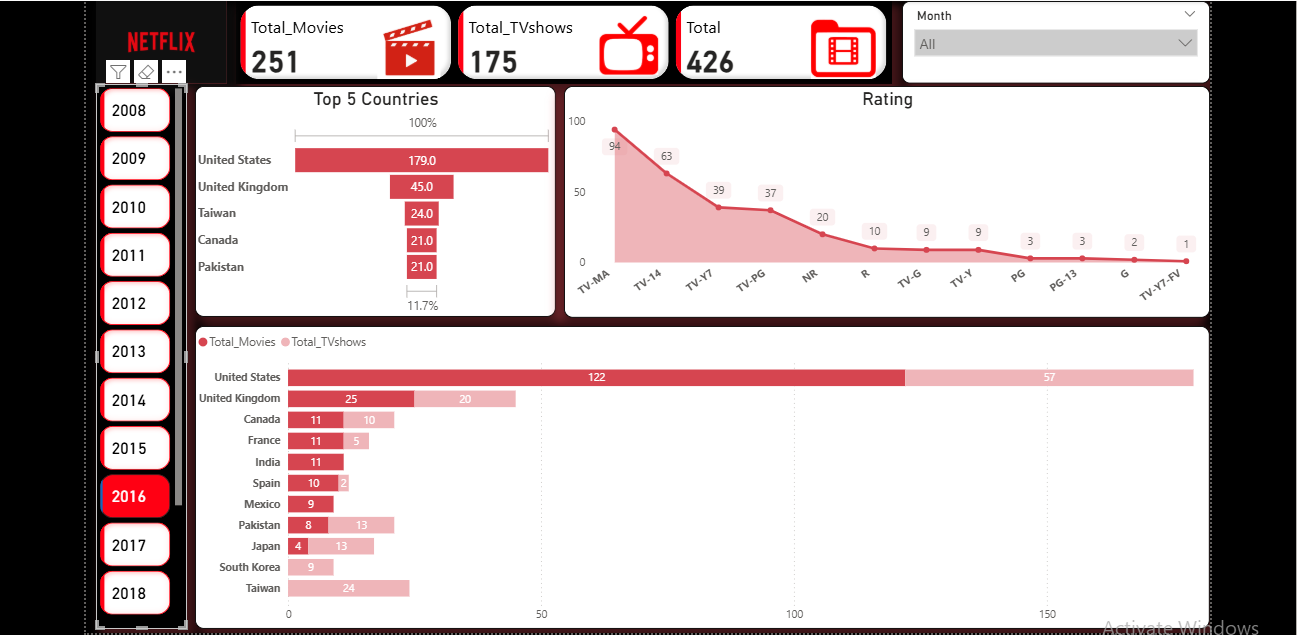

What the dashboard file says about the page in this screenshot:
{"tool":"powerbi","page":{"name":"Page 2","canvas":[1280,720],"ordinal":1},"visuals":[{"type":"shape","box":[0,0,170.8,94.3],"z":0},{"type":"image","box":[11.5,0,149.2,94.3],"z":1000},{"type":"shape","box":[0,114.7,123.7,605.6],"z":2000},{"type":"advancedSlicerVisual","fields":{"Values":["netflix1.date_added.Variation.Date Hierarchy.Year"]},"box":[11.5,94.3,103.3,620.9],"z":3000},{"type":"cardVisual","fields":{"Data":["netflix1.Total_Movies","netflix1.Total_TVshows","netflix1.Total_Movies_shows"]},"box":[170.8,0,747.1,94.3],"z":4000},{"type":"slicer","fields":{"Values":["netflix1.date_added.Variation.Date Hierarchy.Month"]},"box":[929.4,0,350.6,94.3],"z":5000},{"type":"funnel","title":"Top 5 Countries","fields":{"Y":["netflix1.Total_Movies_shows"],"Category":["netflix1.country"]},"box":[123.7,96.9,410.5,262.6],"z":7001},{"type":"lineChart","title":"Rating","fields":{"Category":["netflix1.rating"],"Y":["netflix1.Total_Movies_shows"]},"box":[544.4,96.9,735.6,263.9],"z":7002},{"type":"barChart","title":"Top 5 Countries","fields":{"Category":["netflix1.country"],"Y":["netflix1.Total_Movies","netflix1.Total_TVshows"]},"box":[123.7,369.7,1156.3,345.5],"z":7003}]}

Visuals, with their boxes in screenshot pixels (x1, y1, x2, y2):
shape: box=[88, 0, 236, 82]
image: box=[98, 0, 228, 82]
shape: box=[88, 100, 195, 626]
advancedSlicerVisual - netflix1.date_added.Variation.Date Hierarchy.Year: box=[98, 82, 188, 622]
cardVisual - netflix1.Total_Movies x netflix1.Total_TVshows: box=[236, 0, 886, 82]
slicer - netflix1.date_added.Variation.Date Hierarchy.Month: box=[896, 0, 1201, 82]
"Top 5 Countries" funnel: box=[195, 84, 552, 313]
"Rating" lineChart: box=[561, 84, 1201, 314]
"Top 5 Countries" barChart: box=[195, 322, 1201, 622]
